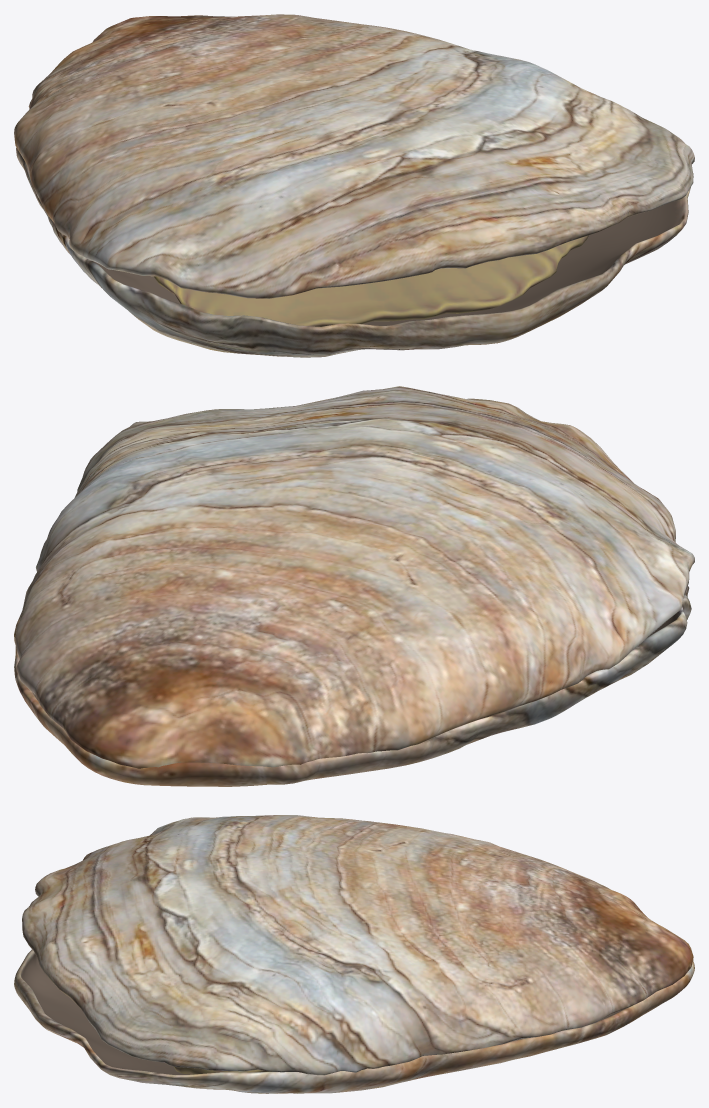
The model's file is oyster.fbx.
3 views of the same model, one above another, from view 1: azimuth 30°, elevation 25°; view 2: azimuth 150°, elevation 25°; view 3: azimuth 270°, elevation 25° (orthographic). The views are drawn at different scales.
Visible parts, largest first — view 1: node_id49; view 2: node_id49; view 3: node_id49.
Part boxes in pixels (x1,y1,x2,y2): node_id49: (14, 14, 694, 357); node_id49: (14, 386, 694, 786); node_id49: (14, 815, 694, 1093).
Size of the model in its own units: 0.512 by 0.1616 by 0.6105.
1 material, 1 textured.
